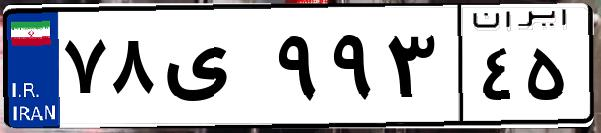3: (385, 28, 445, 110)
4: (475, 38, 525, 113)
5: (525, 38, 570, 115)
7: (57, 26, 110, 100)
8: (110, 28, 158, 98)
9: (270, 28, 330, 110), (330, 28, 385, 110)
ی: (158, 20, 270, 120)
